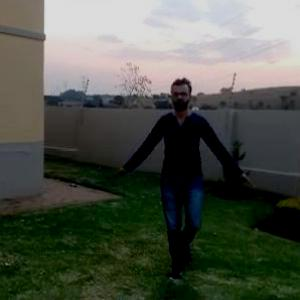land: (116, 67, 256, 282)
